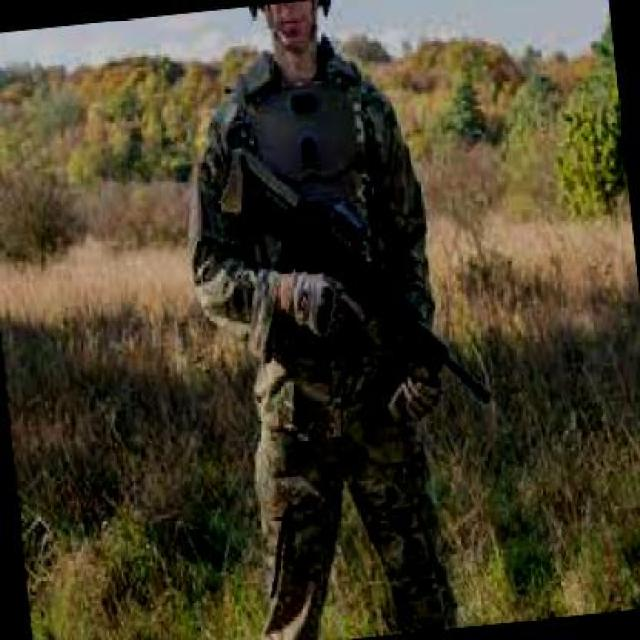MIL_Pax: (163, 0, 474, 638)
